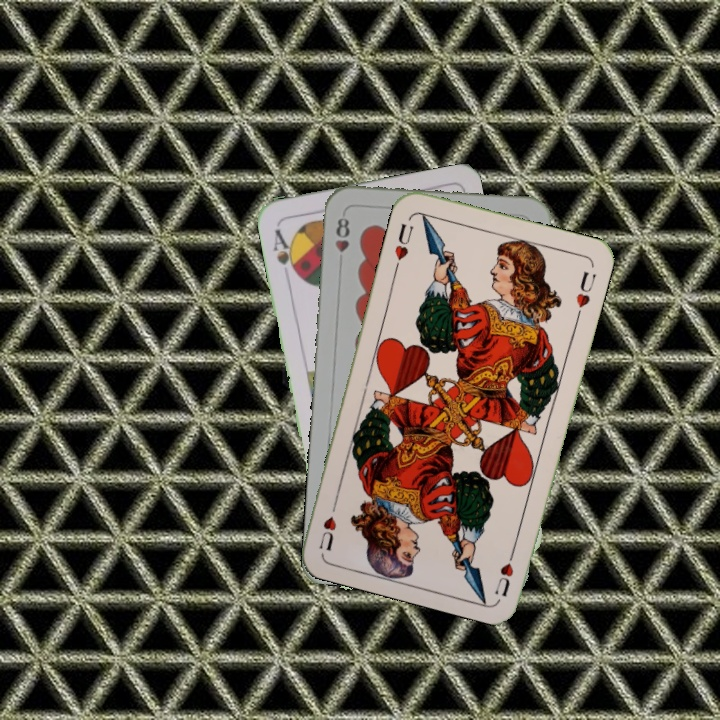H8: (331, 213, 352, 268)
HU: (490, 542, 519, 599), (390, 219, 416, 272)
SA: (269, 225, 301, 278)
